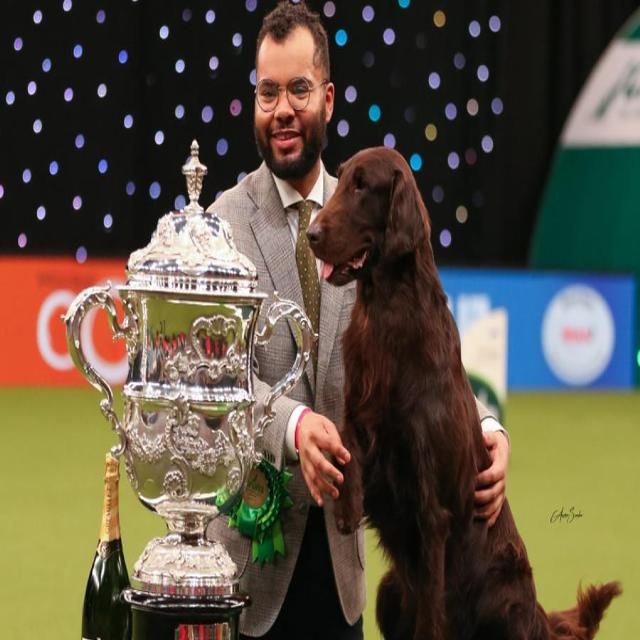Dog: (302, 141, 438, 313)
